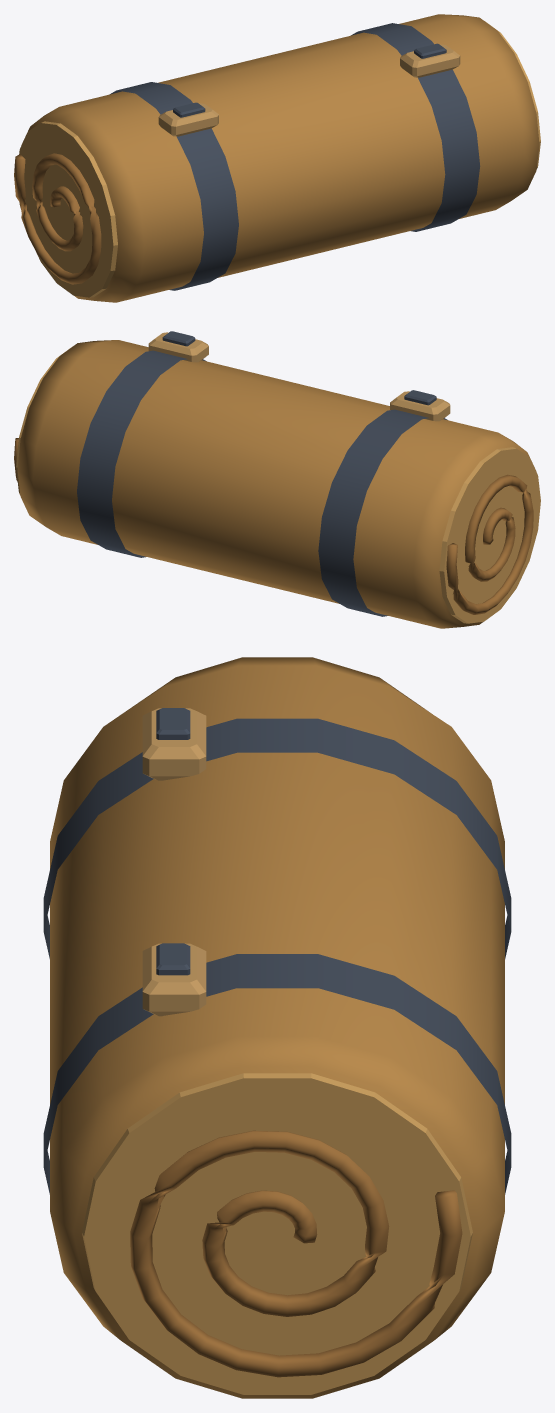
File: bedroll.glb
3 views of the same model, one above another, from view 1: azimuth 30°, elevation 25°; view 2: azimuth 150°, elevation 25°; view 3: azimuth 270°, elevation 25° (orthographic). The views are drawn at different scales.
Parts seen in each view (by area): view 1: Rolled Canvas Bedroll; view 2: Rolled Canvas Bedroll; view 3: Rolled Canvas Bedroll.
Part boxes in pixels (bbox=[...]): Rolled Canvas Bedroll: bbox=[14, 14, 540, 302]; Rolled Canvas Bedroll: bbox=[14, 331, 540, 628]; Rolled Canvas Bedroll: bbox=[43, 657, 511, 1398].
Size of the model in its own units: 0.959 by 0.3896 by 0.44.
